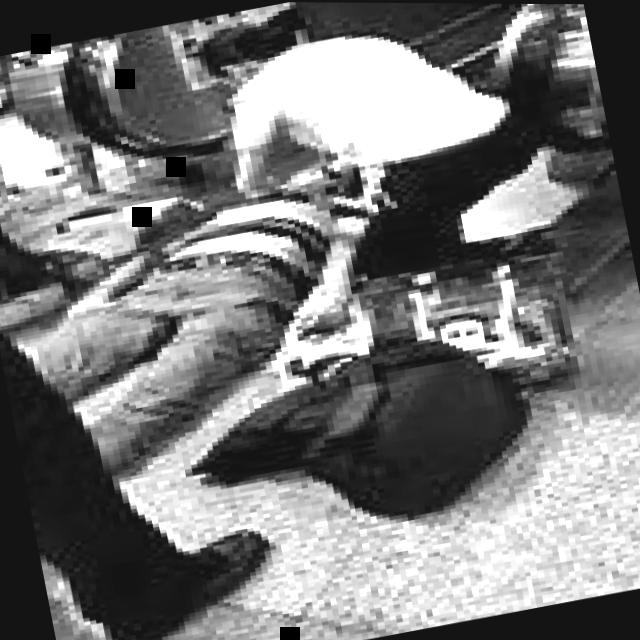Fall-Detected: (0, 109, 475, 495)
